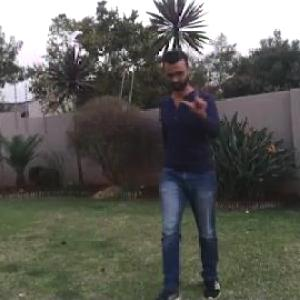land_hand: (179, 78, 212, 118)
